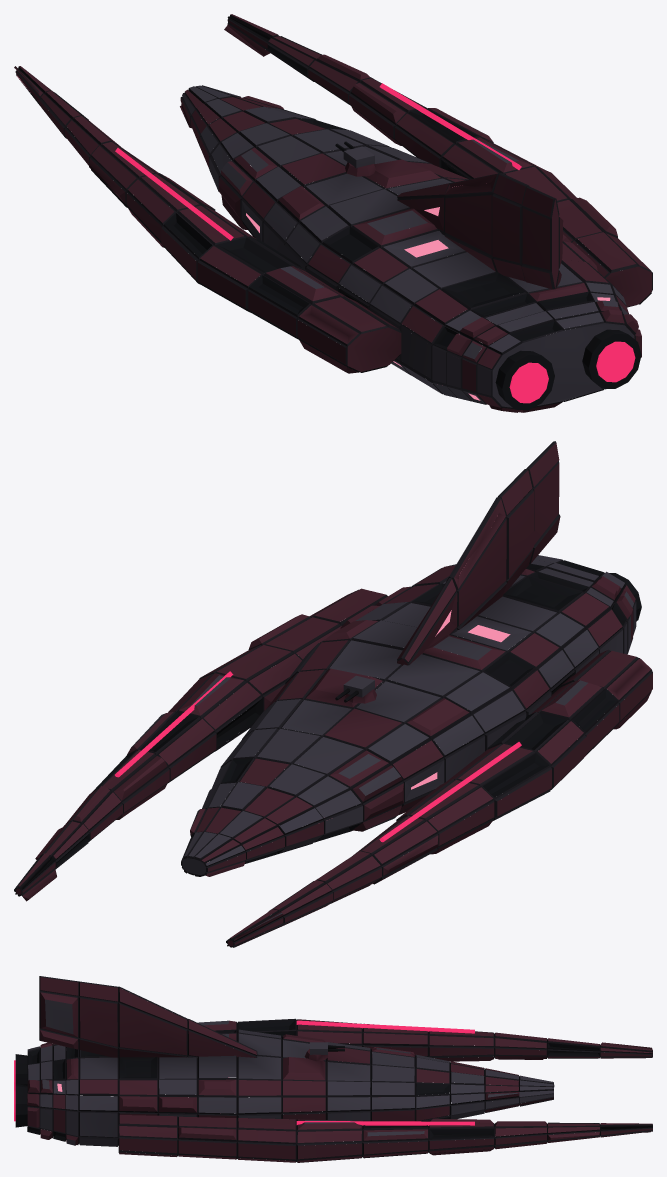
Rendered from corvette.glb.
3 views of the same model, one above another, from view 1: azimuth 30°, elevation 25°; view 2: azimuth 150°, elevation 25°; view 3: azimuth 270°, elevation 25° (orthographic). The views are drawn at different scales.
Visible parts, largest first — view 1: corvette; view 2: corvette; view 3: corvette.
Part boxes in pixels (bbox=[...]): corvette: bbox=[14, 14, 652, 412]; corvette: bbox=[14, 441, 652, 947]; corvette: bbox=[14, 976, 652, 1162].
Bounding box in the file's own units: 59.63 × 34.76 × 130.
